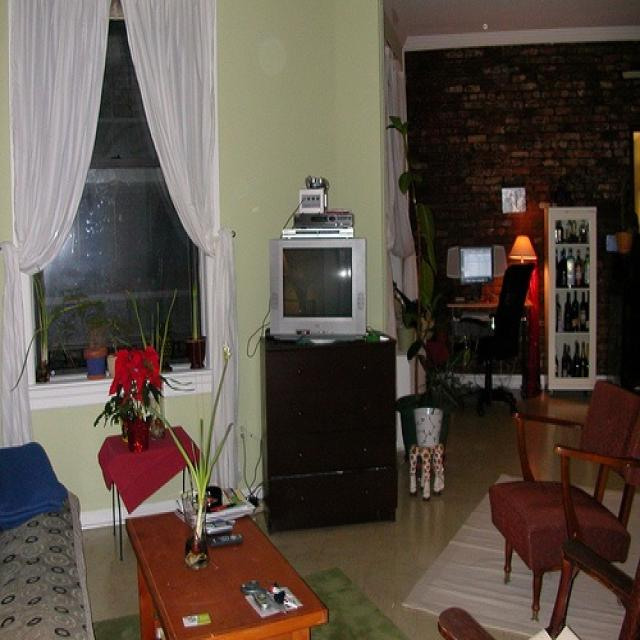bottle: (570, 338, 580, 379), (562, 290, 571, 331), (571, 290, 580, 330), (561, 342, 571, 378), (557, 249, 566, 289), (578, 339, 588, 374), (574, 249, 584, 283), (566, 247, 574, 285), (579, 288, 585, 329), (584, 249, 588, 283)
chair: (486, 379, 639, 616), (439, 532, 639, 638), (457, 259, 538, 415)
pottedplant: (385, 108, 457, 452), (412, 328, 454, 450), (115, 347, 163, 452), (132, 290, 178, 365), (86, 312, 132, 377), (32, 264, 51, 382), (183, 276, 206, 367), (96, 398, 136, 438)
sofa: (0, 438, 97, 638)
tvmonitor: (266, 234, 369, 348), (447, 246, 507, 288)
